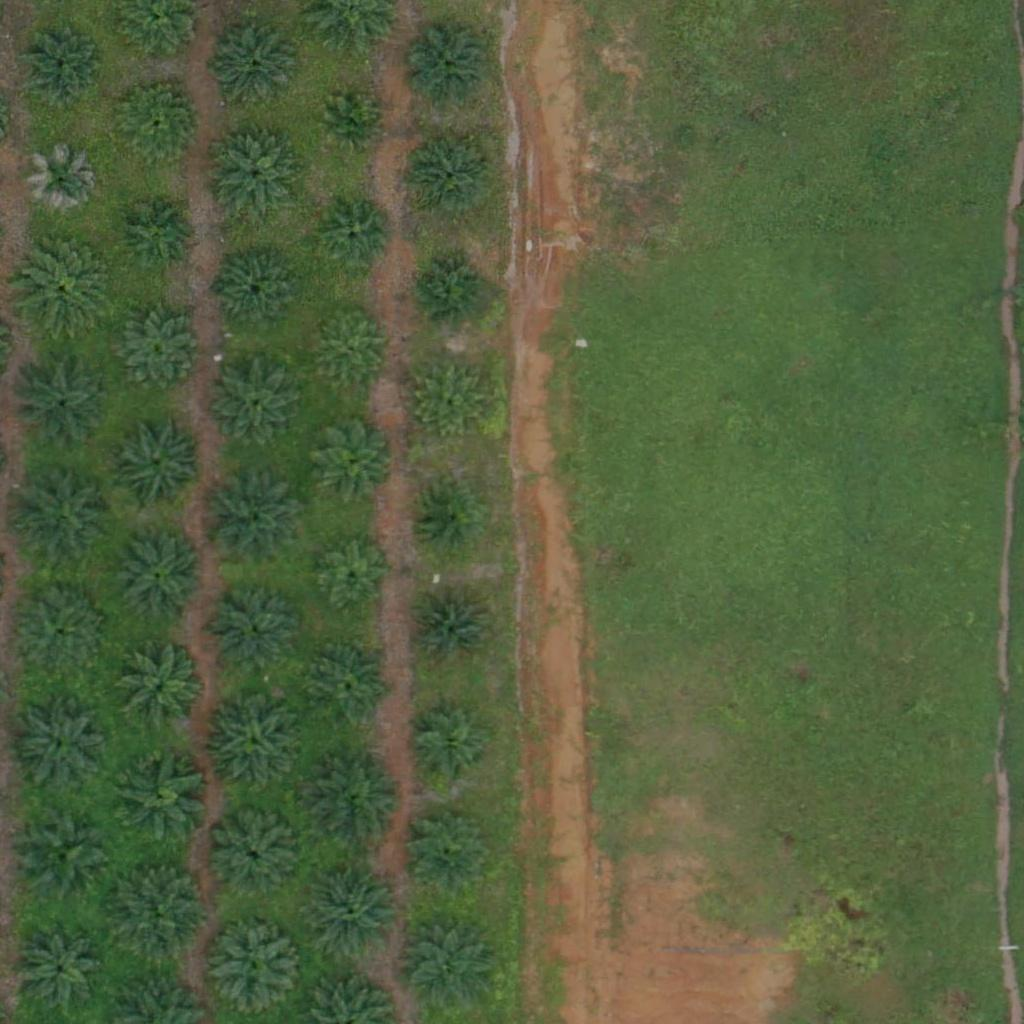Kelapa_Sawit: (17, 236, 117, 337), (200, 470, 300, 571), (105, 301, 205, 402), (105, 411, 205, 512), (11, 351, 111, 452), (14, 804, 114, 905), (109, 857, 209, 958), (205, 917, 305, 1018), (307, 862, 407, 963), (303, 751, 403, 851), (203, 690, 303, 790), (109, 747, 209, 847), (14, 467, 114, 567), (9, 694, 109, 794), (113, 81, 201, 170), (215, 248, 303, 337), (211, 813, 299, 902), (114, 188, 202, 276), (405, 706, 493, 794), (404, 23, 492, 111), (405, 134, 493, 222), (308, 643, 396, 731), (210, 362, 298, 450), (209, 587, 297, 675), (16, 927, 104, 1015), (306, 415, 393, 503), (409, 587, 496, 675), (211, 24, 298, 112), (212, 134, 299, 222), (114, 535, 201, 623), (117, 646, 204, 734), (17, 595, 104, 683), (405, 807, 492, 895), (405, 922, 492, 1010), (319, 199, 394, 274), (317, 541, 392, 616), (409, 362, 484, 437), (416, 254, 491, 329), (23, 31, 98, 106), (25, 145, 100, 220), (311, 310, 386, 385), (414, 485, 477, 548), (321, 94, 384, 157)
